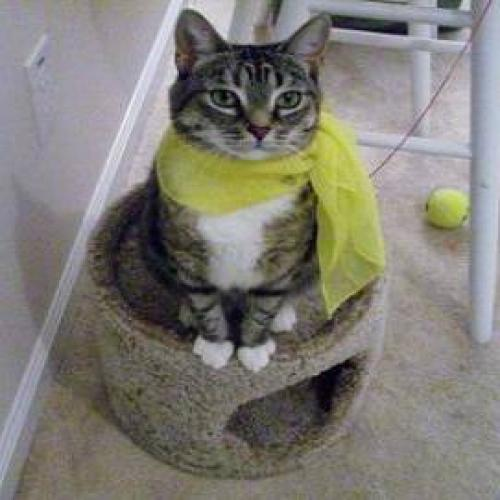bengal: (153, 1, 352, 172)
